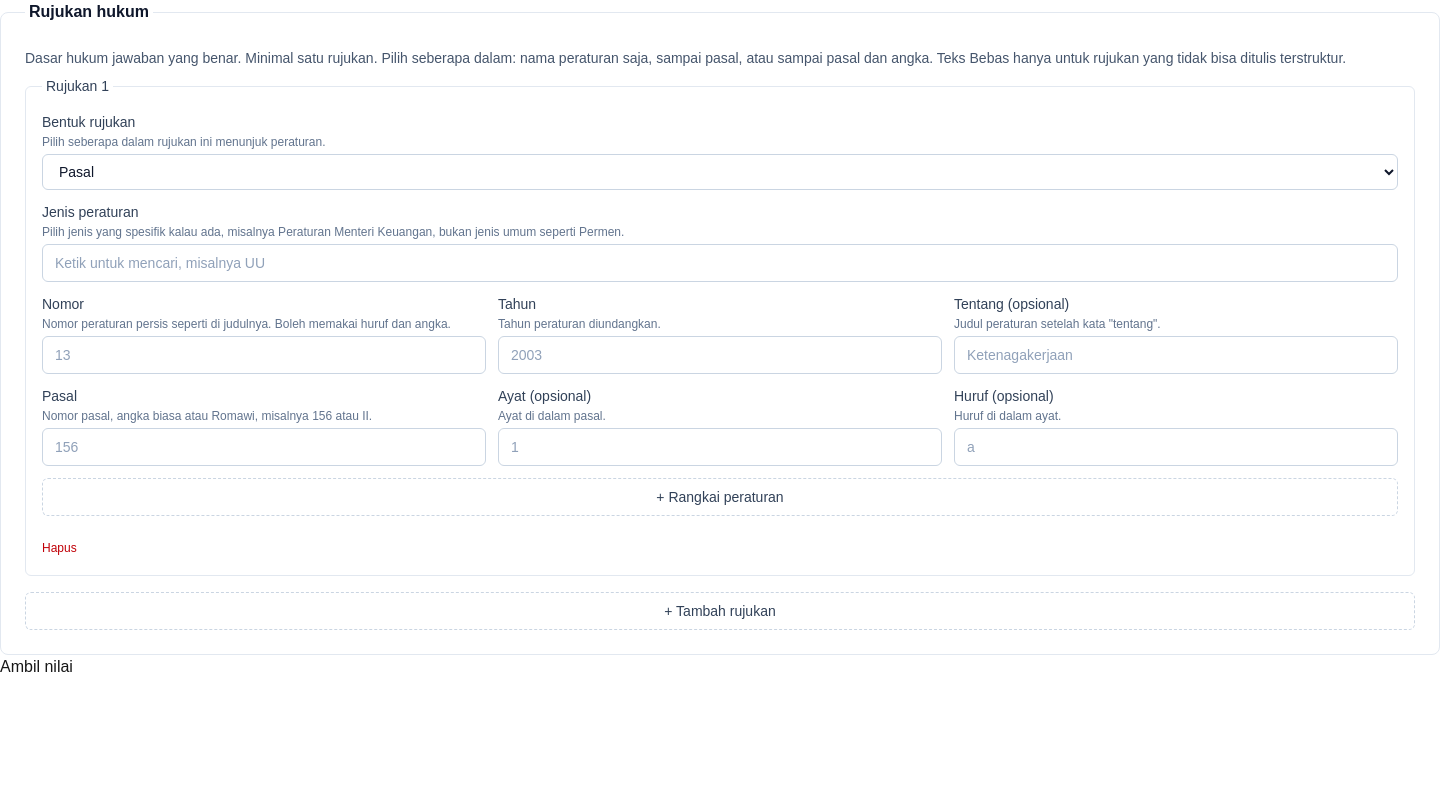
Test: LegalRefsSection › adds a second reference with the default form
Click the button "+ Tambah rujukan" at coordinates (720, 611), box [25,592,1415,630]
(page scrolled)
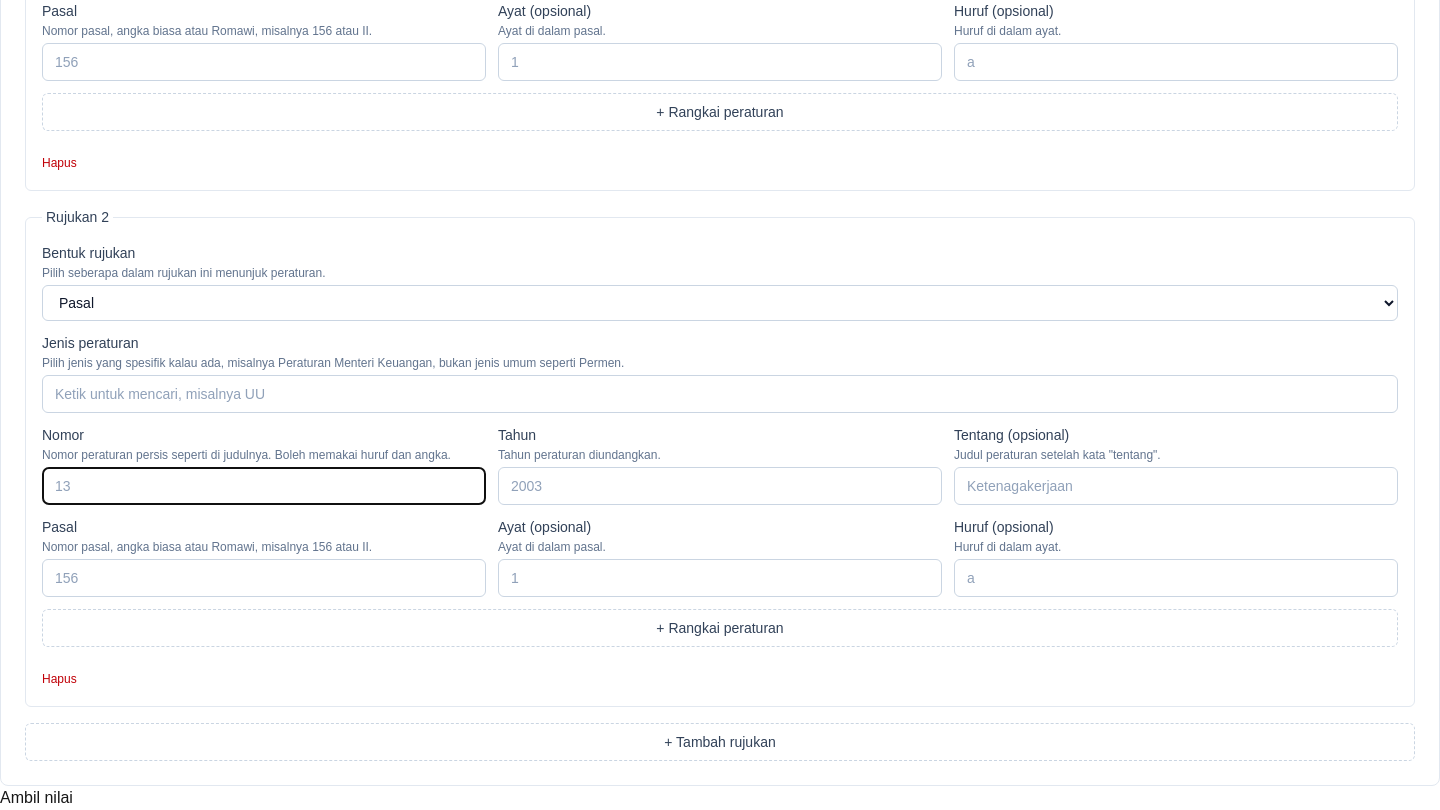
Result: the dropdown labelled "Bentuk rujukan" shows "Pasal" at [42,285,1398,321]
